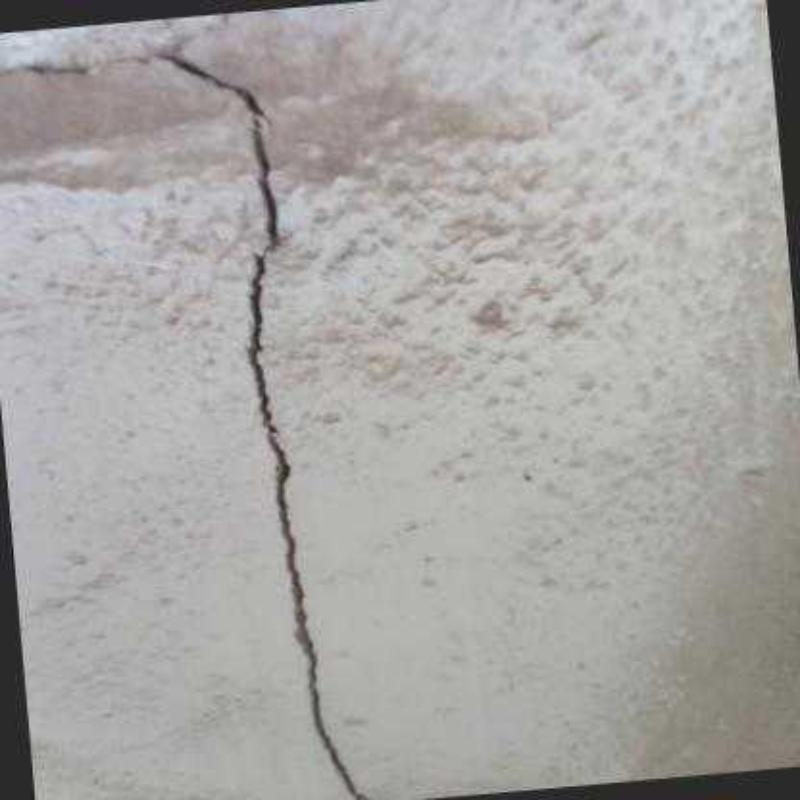pothole: (151, 56, 368, 800), (0, 13, 237, 80)
